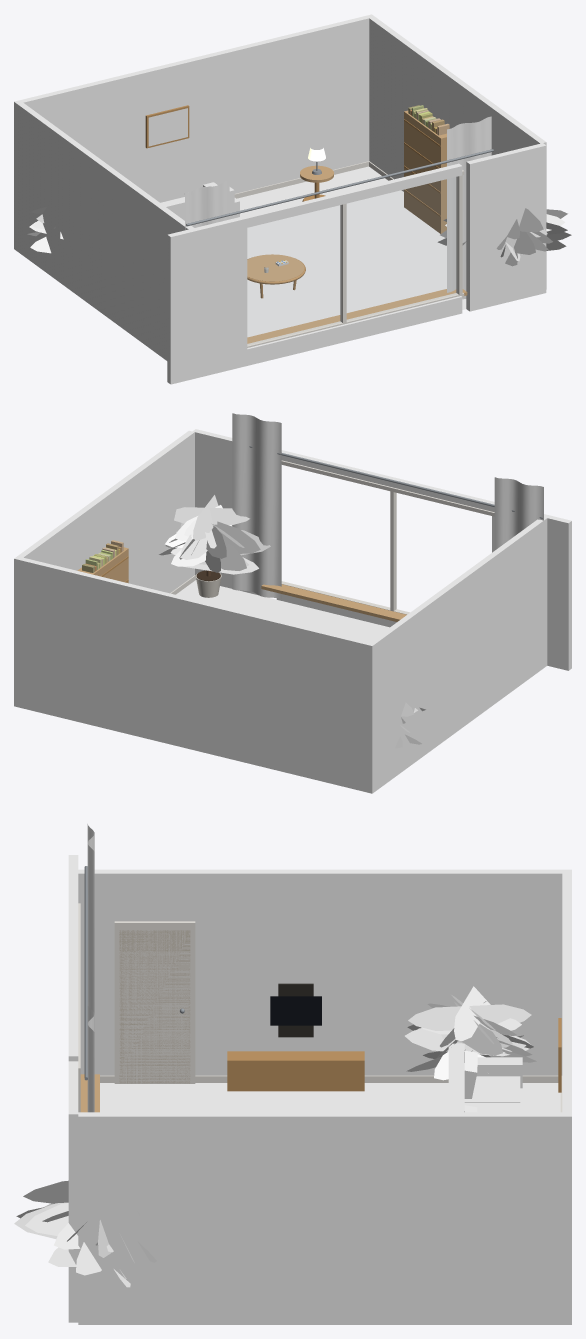
Rendered from room.glb.
The picture shows the model from 3 angles, top to bottom: view 1: azimuth 30°, elevation 25°; view 2: azimuth 150°, elevation 25°; view 3: azimuth 270°, elevation 25°; orthographic projection. The views are drawn at different scales.
Parts seen in each view (by area): view 1: 客厅场景; view 2: 客厅场景; view 3: 客厅场景.
Boxes of the visible parts, left/top/right/bottom form: 客厅场景: left=14, top=14, right=571, bottom=384; 客厅场景: left=14, top=413, right=571, bottom=793; 客厅场景: left=14, top=824, right=571, bottom=1324.
Bounding box in the file's own units: 8.26 × 3.5 × 6.92.
